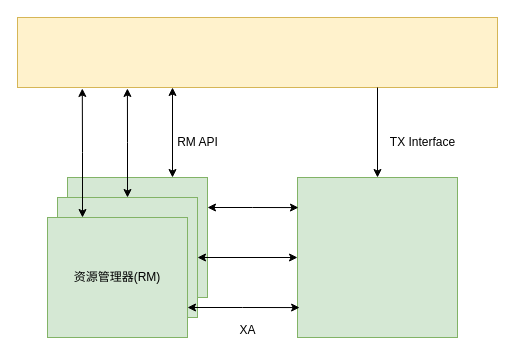
The diagram is 515 pixels wide and 363 high, and some of its shapes have lost their labels. Each missing label, with the centre of its shape:
"事务管理器(TM)" goes at [377,257].
"应用程序(AP)" goes at [257,52].
